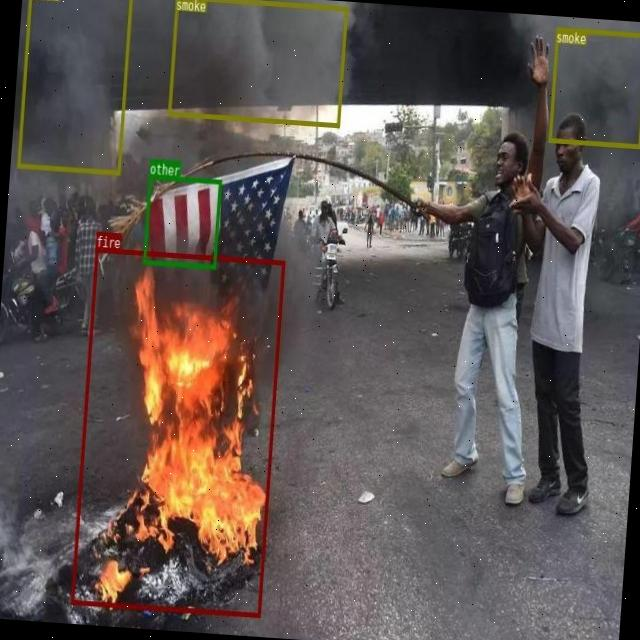fire: (70, 246, 284, 616)
smoke: (167, 0, 347, 127), (16, 0, 133, 174), (548, 27, 640, 148)
